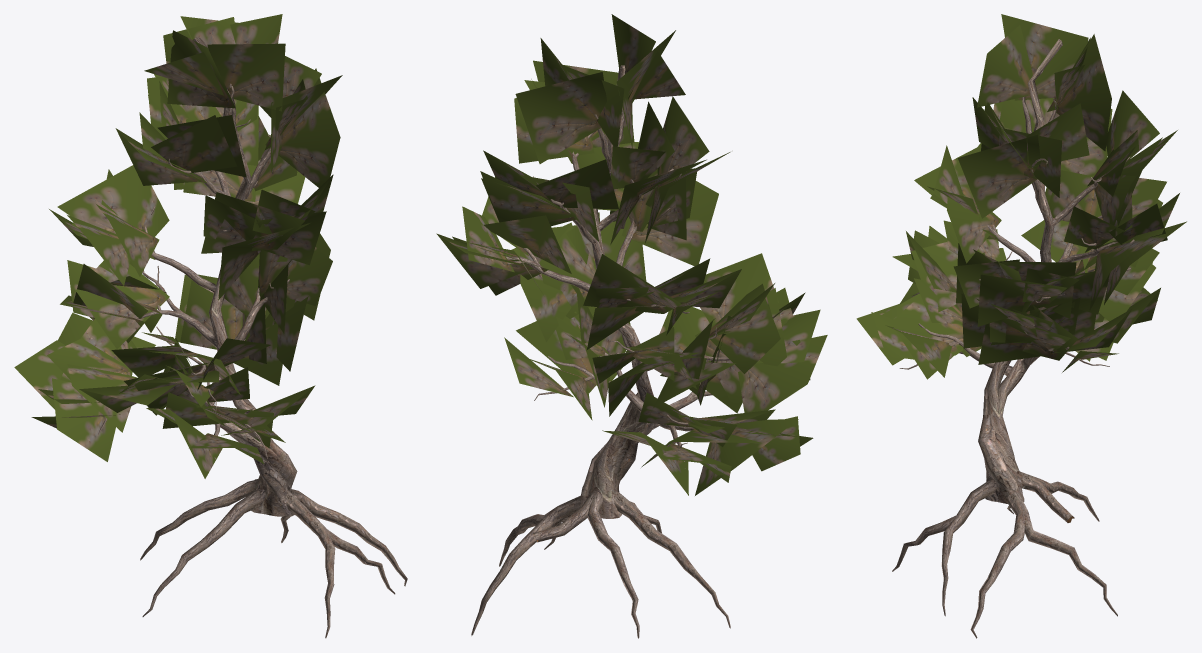
Rendered from tree_bare_old.glb.
3 renders of one model, left to right at view 1: azimuth 30°, elevation 25°; view 2: azimuth 150°, elevation 25°; view 3: azimuth 270°, elevation 25°, orthographic. The views are drawn at different scales.
Visible parts, largest first — view 1: Tree_2_Tree_2Mat_0, Tree_0_Tree_0Mat_0; view 2: Tree_2_Tree_2Mat_0, Tree_0_Tree_0Mat_0; view 3: Tree_2_Tree_2Mat_0, Tree_0_Tree_0Mat_0.
Boxes of the visible parts, x1,y1,x2,y2 form: Tree_2_Tree_2Mat_0: [14, 14, 342, 478]; Tree_0_Tree_0Mat_0: [92, 37, 407, 638]; Tree_2_Tree_2Mat_0: [436, 14, 827, 495]; Tree_0_Tree_0Mat_0: [471, 65, 730, 638]; Tree_2_Tree_2Mat_0: [856, 14, 1186, 379]; Tree_0_Tree_0Mat_0: [892, 39, 1134, 638].
Size of the model in its own units: 2.57 by 4.24 by 2.36.
Materials: 3 (3 with a texture image).
